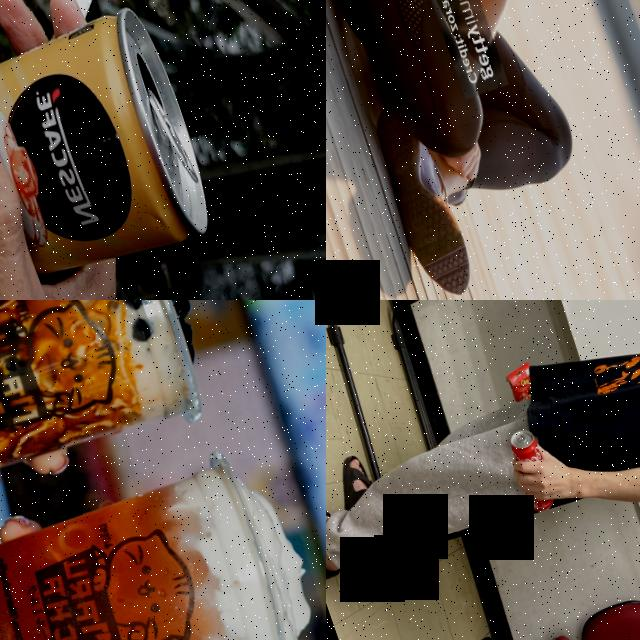can: (0, 0, 224, 300), (503, 426, 559, 516)
cup: (0, 446, 304, 640), (0, 300, 206, 546)
